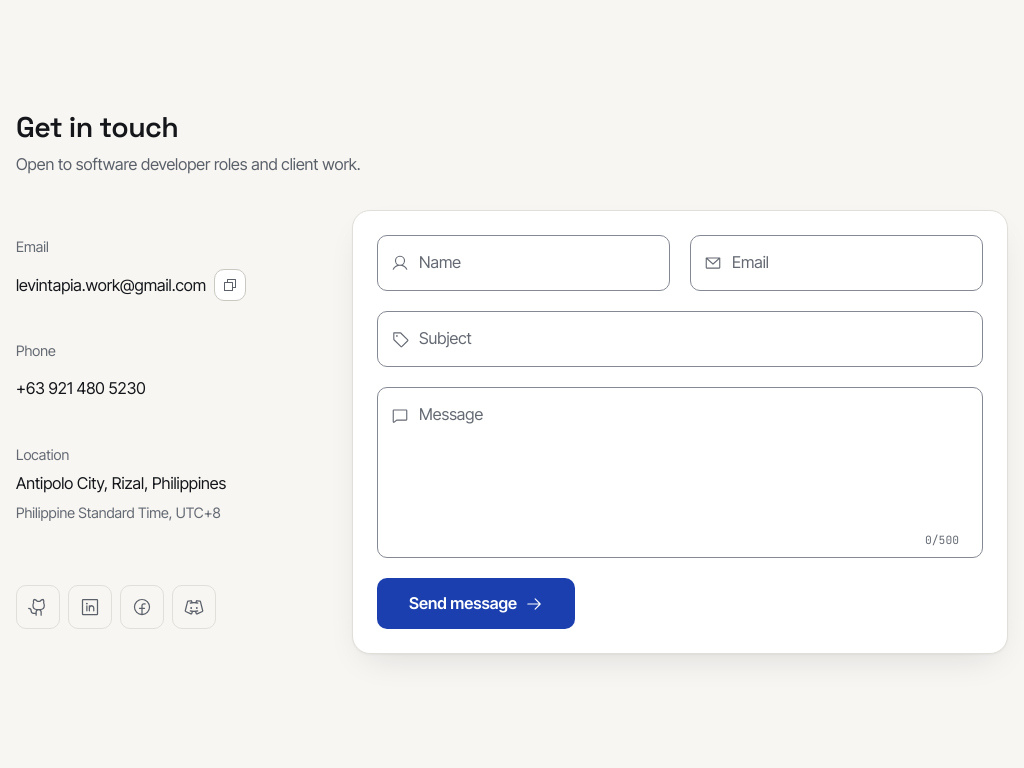
Test: Contact › reports field errors instead of sending an incomplete form
Click the button "Send message" at (476,604), box x1=377 y1=578 x2=575 y2=629
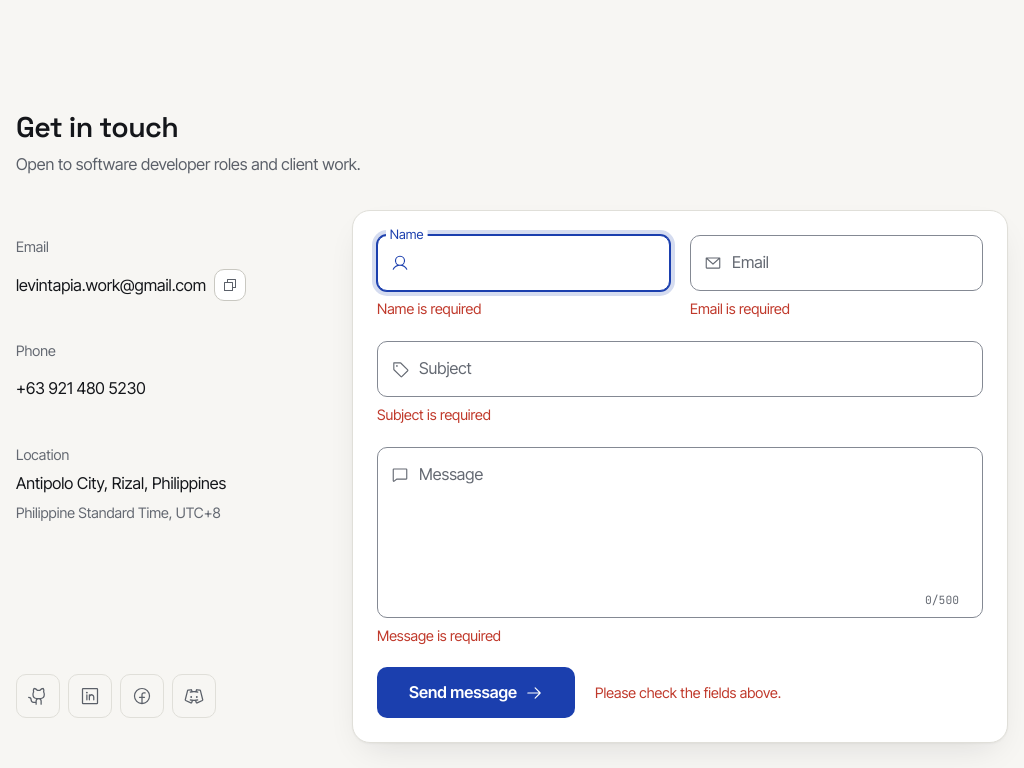
Now the text "Name is required" is shown, box x1=377 y1=300 x2=481 y2=317
